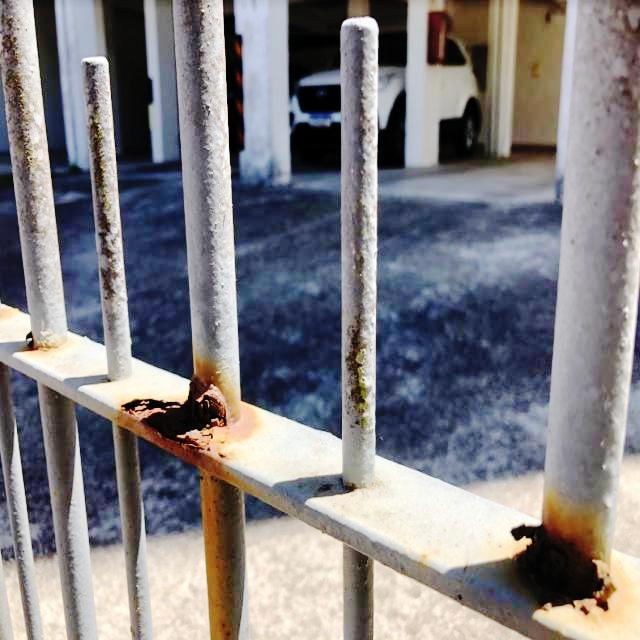Corrosion: (119, 357, 262, 469), (500, 514, 620, 623), (21, 332, 62, 354)
